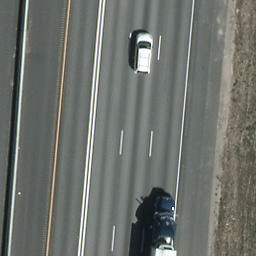car: (130, 31, 157, 77)
